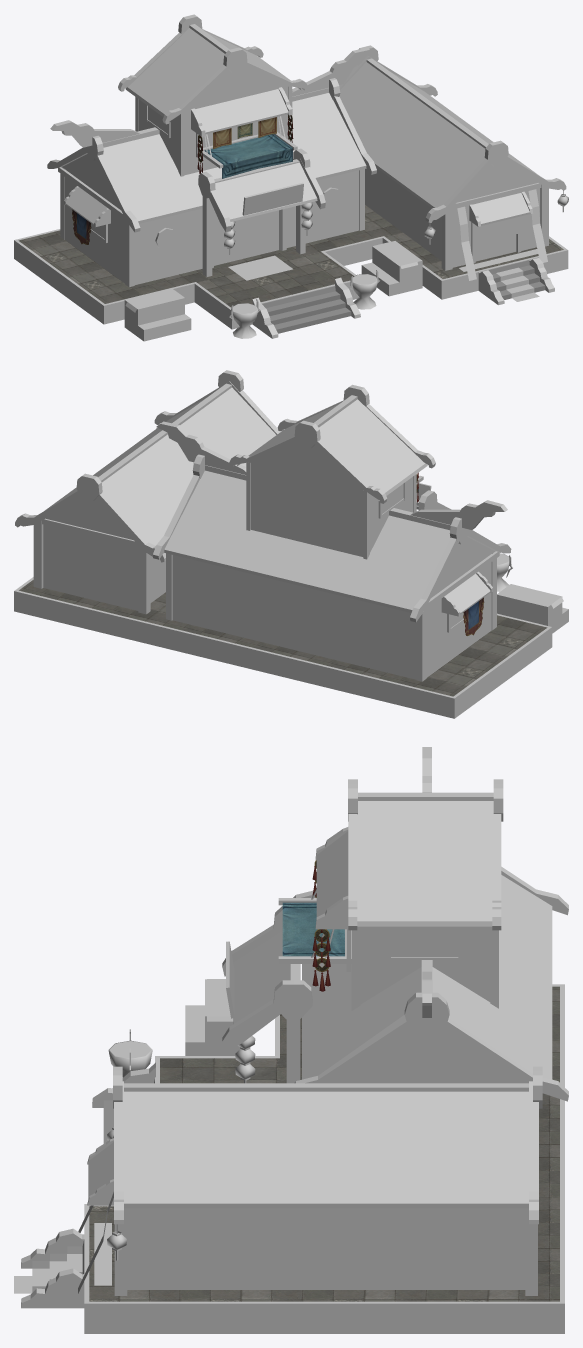
The model's file is s7_unioncity_jianzhu_dangpu02.FBX.
The picture shows the model from 3 angles, top to bottom: view 1: azimuth 30°, elevation 25°; view 2: azimuth 150°, elevation 25°; view 3: azimuth 270°, elevation 25°; orthographic projection. The views are drawn at different scales.
Parts seen in each view (by area): view 1: s7_3d_lmzc_dangpu01, s7_3d_lmzc_dangpu06, s7_3d_lmzc_dangpu02, s7_3d_lmzc_dangpu05, s7_3d_lmzc_dangpu007; view 2: s7_3d_lmzc_dangpu01, s7_3d_lmzc_dangpu06, s7_3d_lmzc_dangpu02; view 3: s7_3d_lmzc_dangpu01, s7_3d_lmzc_dangpu06, s7_3d_lmzc_dangpu02, s7_3d_lmzc_dangpu05.
Boxes of the visible parts, x1,y1,x2,y2 form: s7_3d_lmzc_dangpu01: (14,14,568,341); s7_3d_lmzc_dangpu06: (18,205,563,307); s7_3d_lmzc_dangpu02: (72,115,293,244); s7_3d_lmzc_dangpu05: (262,260,545,333); s7_3d_lmzc_dangpu007: (214,210,516,265); s7_3d_lmzc_dangpu01: (14,370,568,718); s7_3d_lmzc_dangpu06: (19,580,547,696); s7_3d_lmzc_dangpu02: (416,472,484,635); s7_3d_lmzc_dangpu01: (14,747,568,1333); s7_3d_lmzc_dangpu06: (89,986,559,1301); s7_3d_lmzc_dangpu02: (282,860,344,991); s7_3d_lmzc_dangpu05: (32,1079,154,1292).
Bounding box in the file's own units: 47.91 × 23.82 × 33.87.
